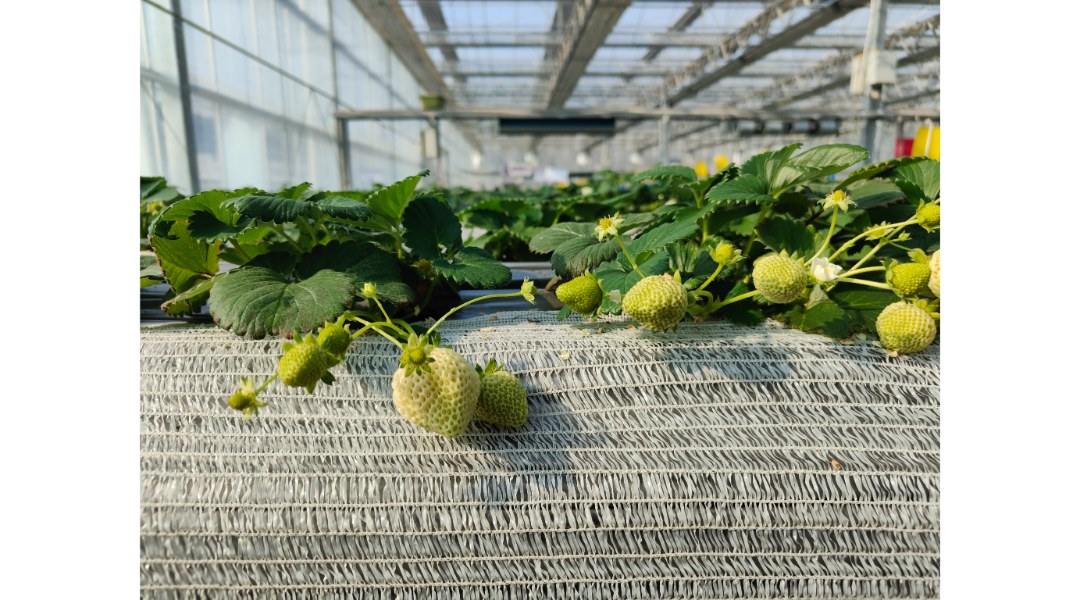berry: (393, 333, 480, 442), (470, 358, 540, 424), (265, 332, 333, 397), (622, 272, 689, 332), (875, 297, 934, 365), (749, 247, 806, 304), (561, 266, 613, 325), (219, 368, 273, 424), (906, 187, 948, 238), (312, 312, 352, 360), (879, 257, 927, 297), (698, 237, 744, 266), (352, 271, 382, 297), (516, 283, 544, 308)
flower: (820, 183, 858, 215), (588, 211, 624, 241), (812, 256, 842, 283)
strain: (427, 288, 517, 330), (703, 288, 755, 317), (614, 235, 645, 278), (694, 259, 725, 301), (373, 297, 392, 322)
